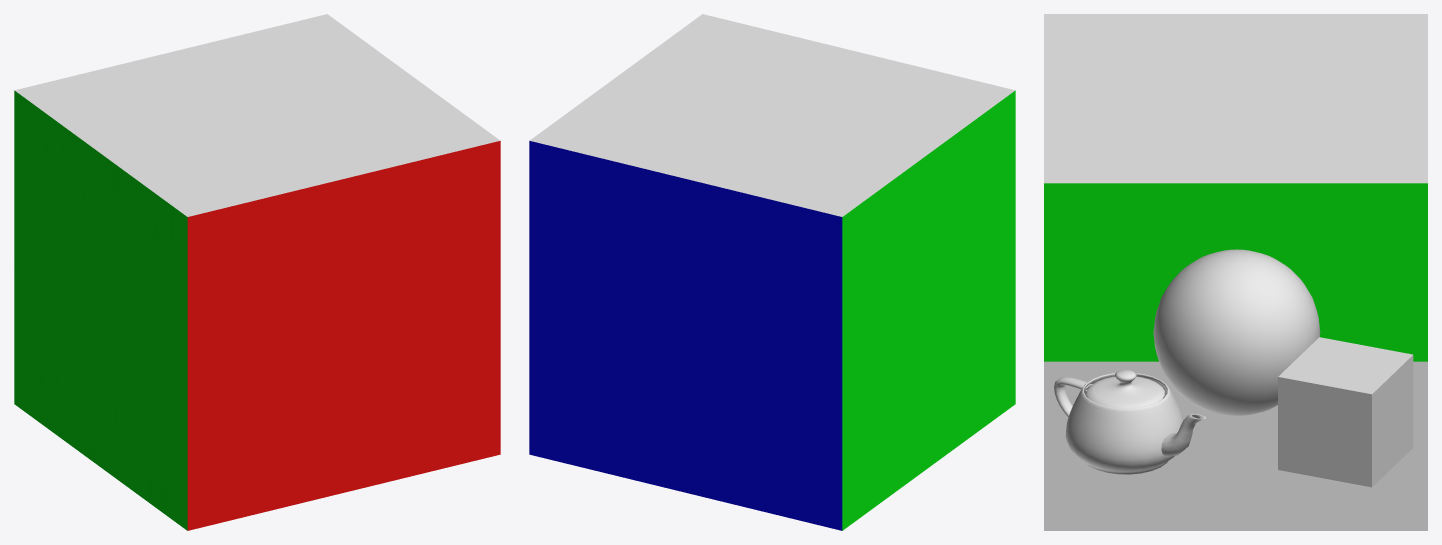
File: roomA.glb
The picture shows the model from 3 angles, left to right: view 1: azimuth 30°, elevation 25°; view 2: azimuth 150°, elevation 25°; view 3: azimuth 270°, elevation 25°; orthographic projection. The views are drawn at different scales.
Parts seen in each view (by area): view 1: RoomA; view 2: RoomA; view 3: RoomA.
Boxes of the visible parts, x1=… form: RoomA: x1=14, y1=14, x2=500, y2=530; RoomA: x1=529, y1=14, x2=1015, y2=530; RoomA: x1=1044, y1=14, x2=1427, y2=530.
Bounding box in the file's own units: 4.8 × 4.6 × 4.6.
